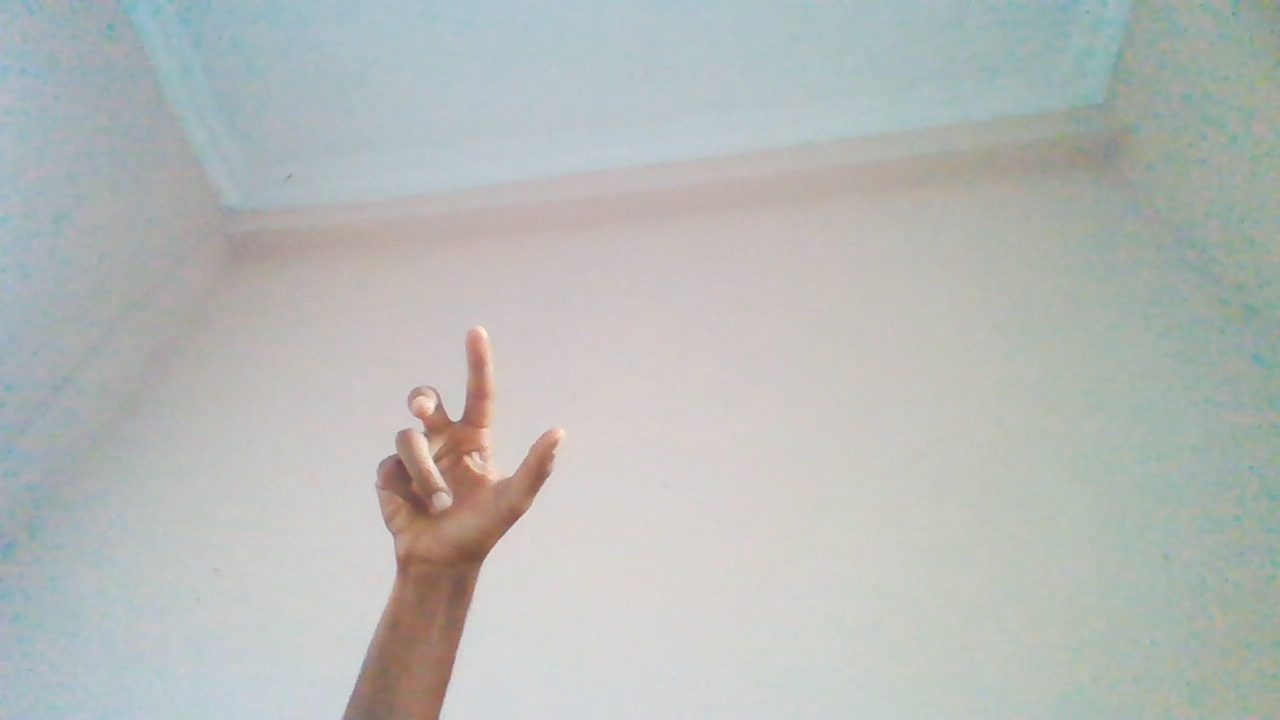hhe: (369, 327, 561, 661)
